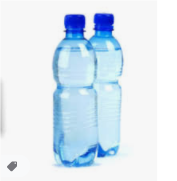Bottle: (53, 13, 99, 164), (86, 14, 121, 157)
